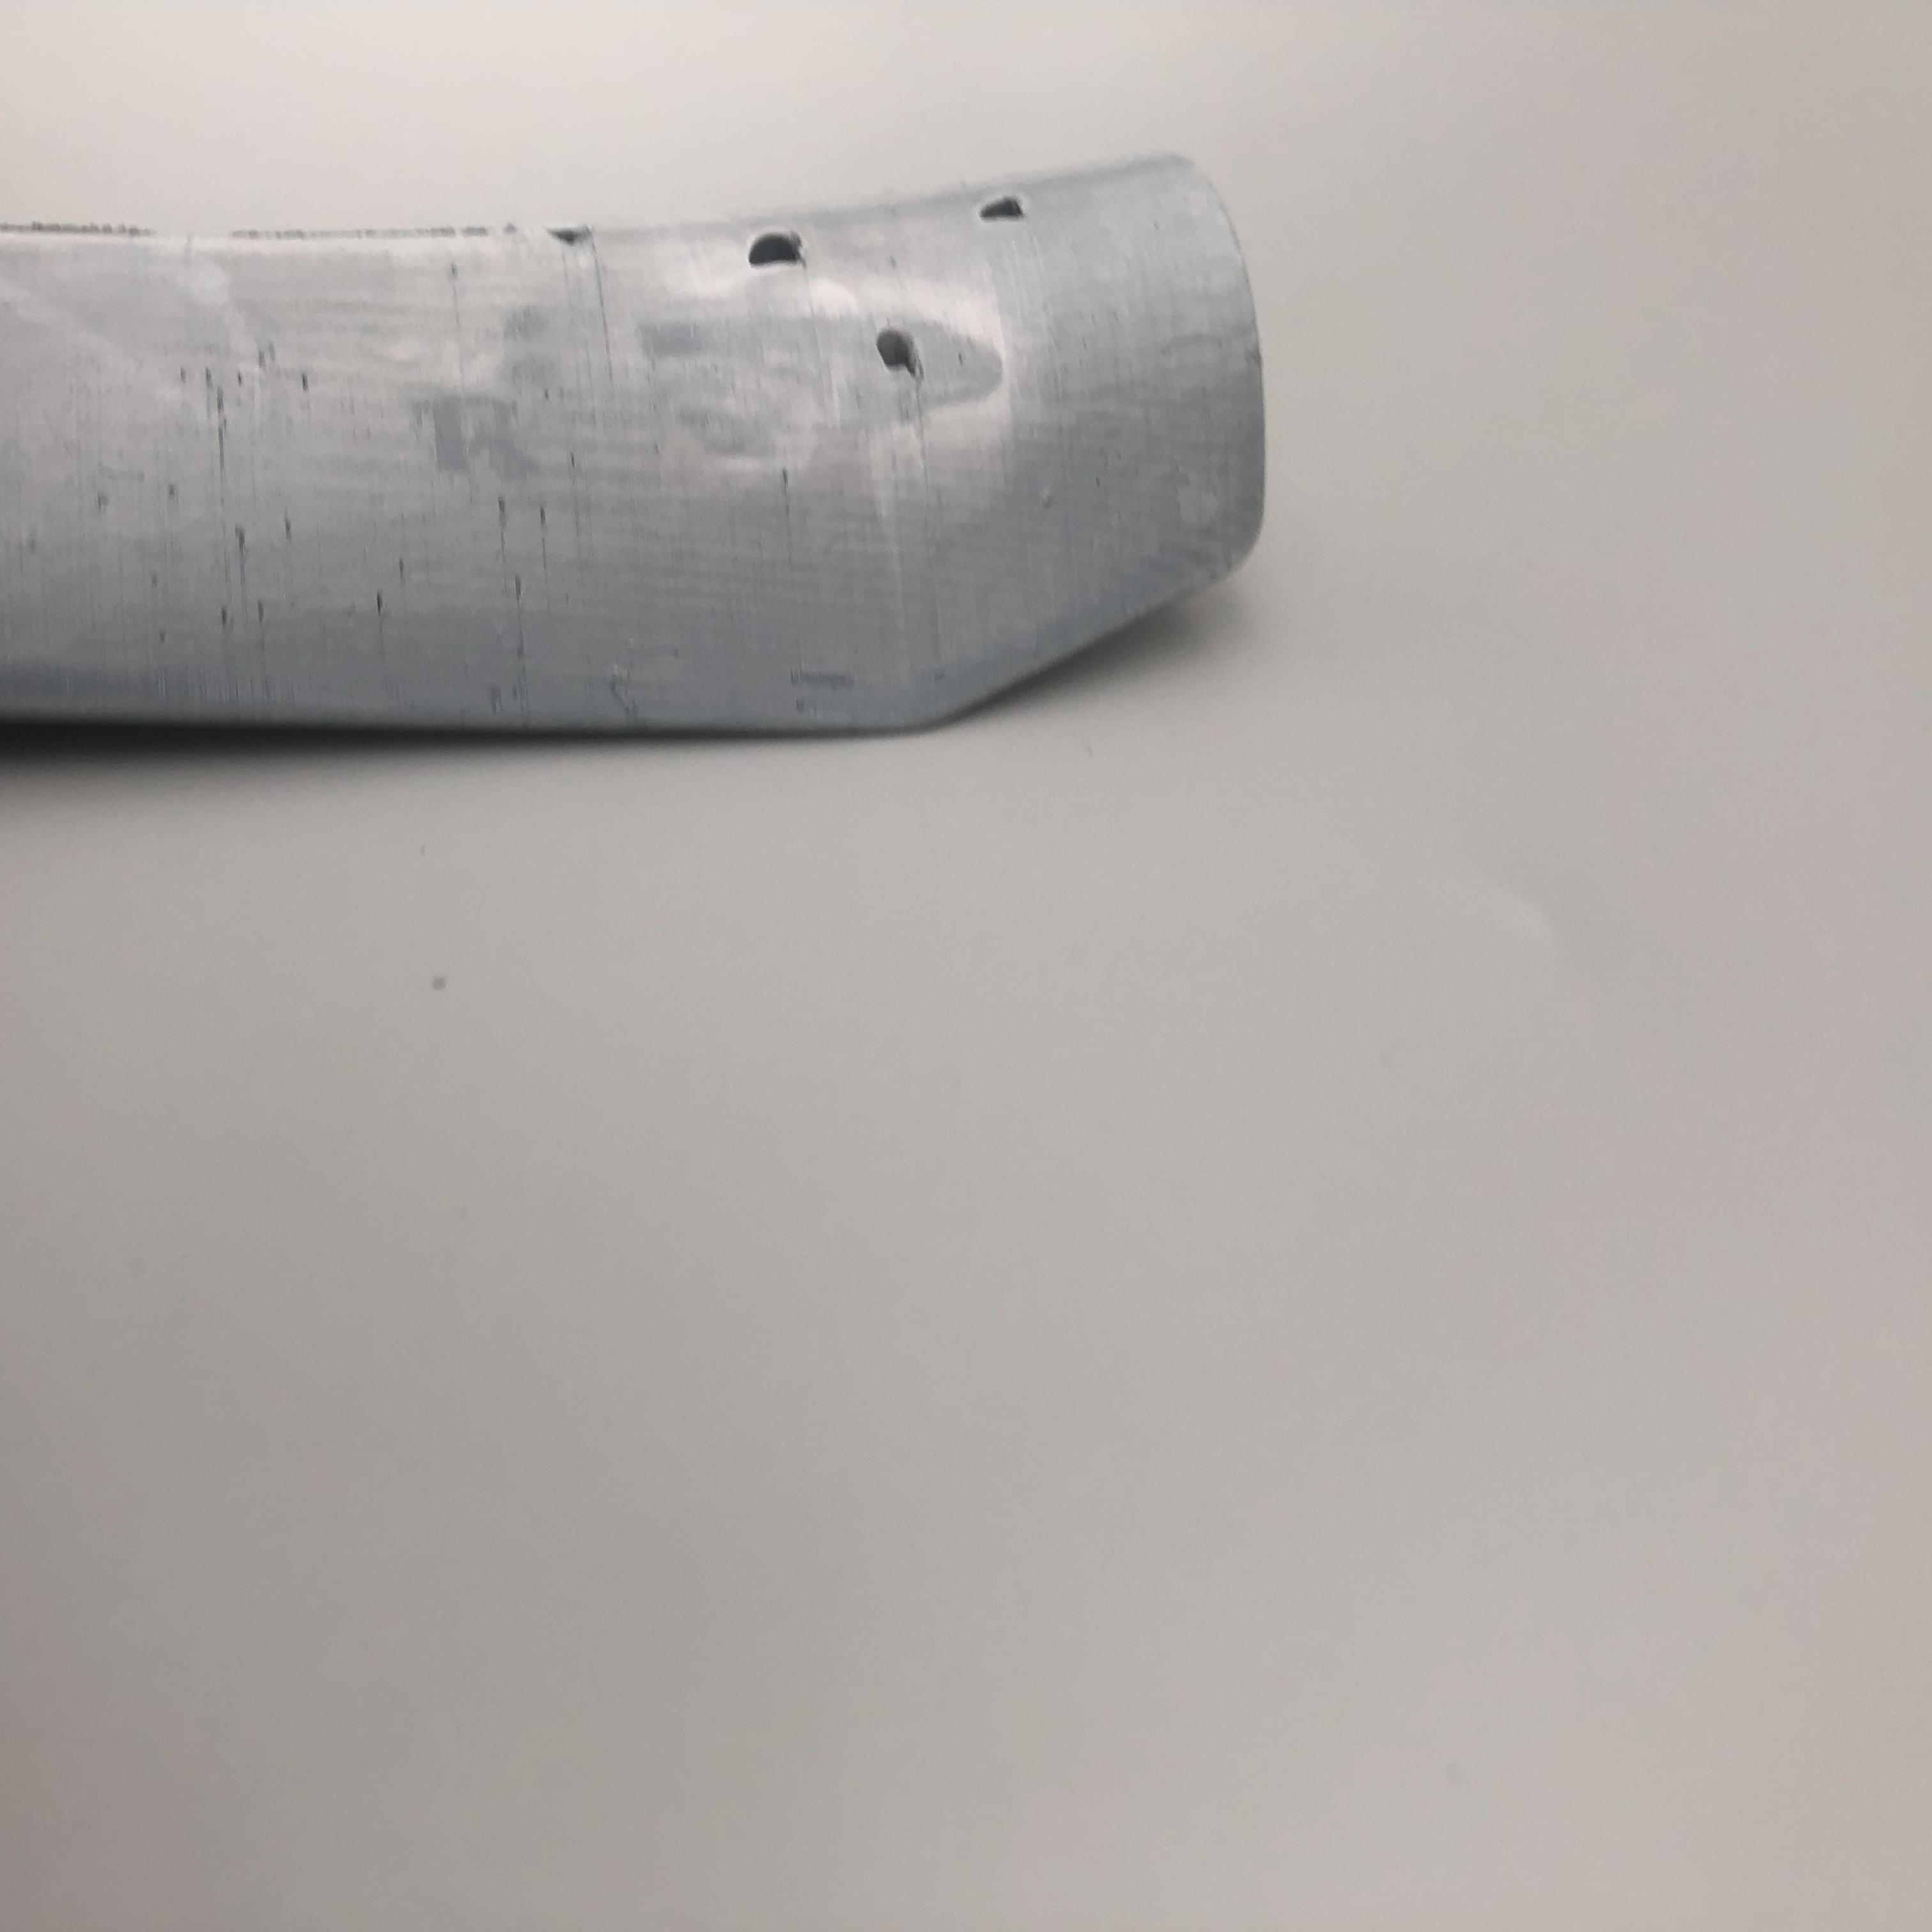breakdown: (529, 218, 941, 400), (975, 175, 1063, 246)
